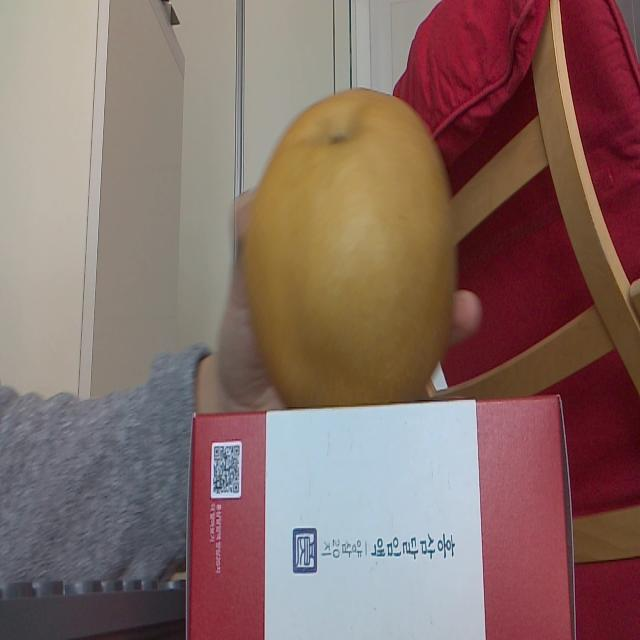pear: (246, 85, 454, 411)
